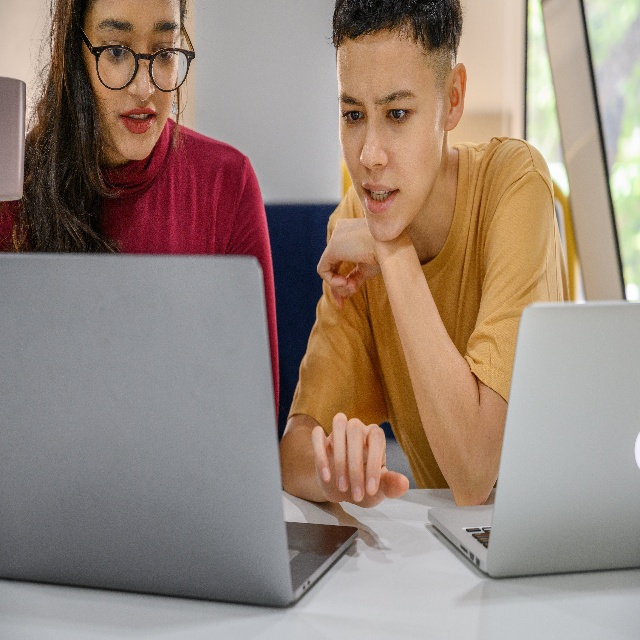Gafas: (78, 18, 197, 96)
Sin_guantes: (312, 413, 410, 511), (316, 213, 386, 296)
